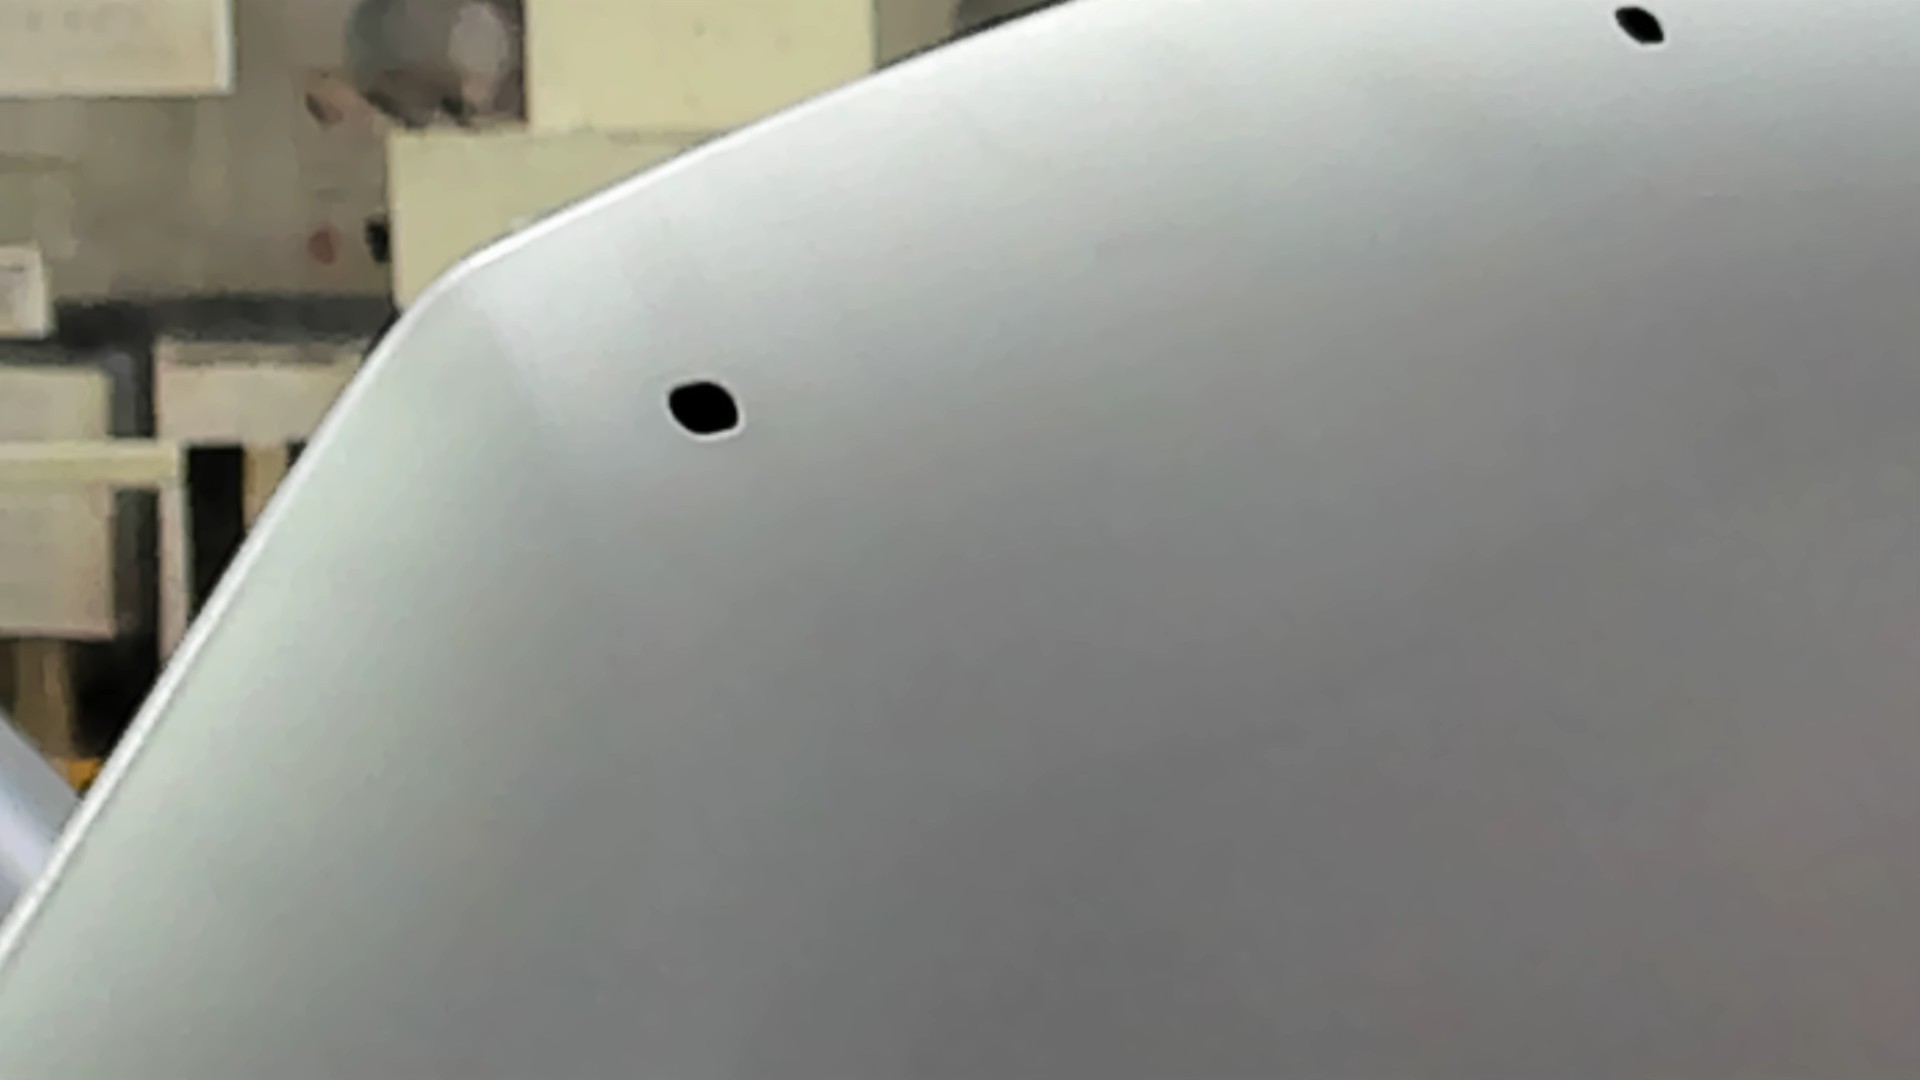amorfo: (659, 369, 750, 447), (1602, 1, 1679, 54)
